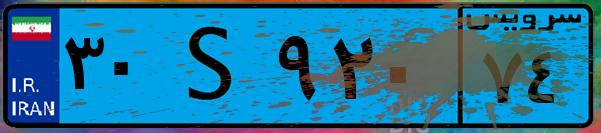0: (385, 28, 445, 110), (110, 28, 158, 98)
2: (330, 28, 385, 110)
3: (57, 26, 110, 100)
4: (525, 38, 570, 115)
7: (475, 38, 525, 113)
9: (270, 28, 330, 110)
S: (158, 12, 270, 120)
